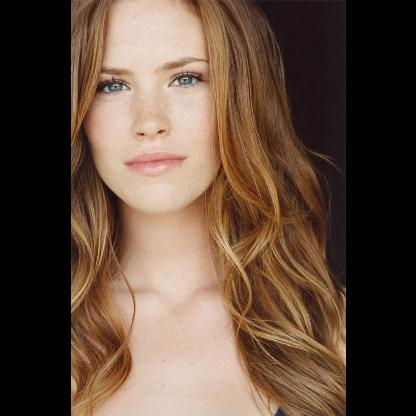Female: (82, 0, 224, 210)
